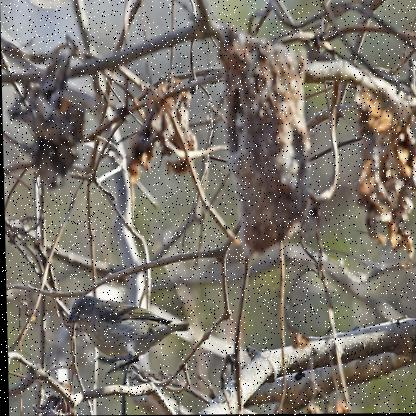Burung: (65, 291, 190, 370)
